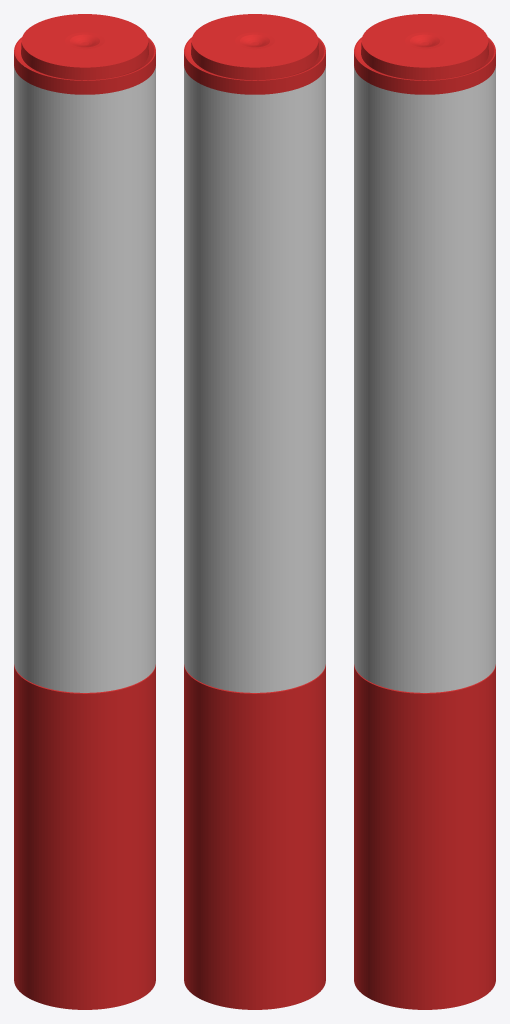
The model's file is marker_1.glb.
The picture shows the model from 3 angles, left to right: view 1: azimuth 30°, elevation 25°; view 2: azimuth 150°, elevation 25°; view 3: azimuth 270°, elevation 25°; orthographic projection.
Parts seen in each view (by area): view 1: Marker, Cap; view 2: Marker, Cap; view 3: Marker, Cap.
Boxes of the visible parts, x1,y1,x2,y2 form: Marker: [14, 14, 155, 692]; Cap: [14, 664, 155, 1009]; Marker: [184, 14, 325, 692]; Cap: [184, 664, 325, 1009]; Marker: [354, 14, 495, 692]; Cap: [354, 664, 495, 1009].
Size of the model in its own units: 2 by 14.61 by 2.
